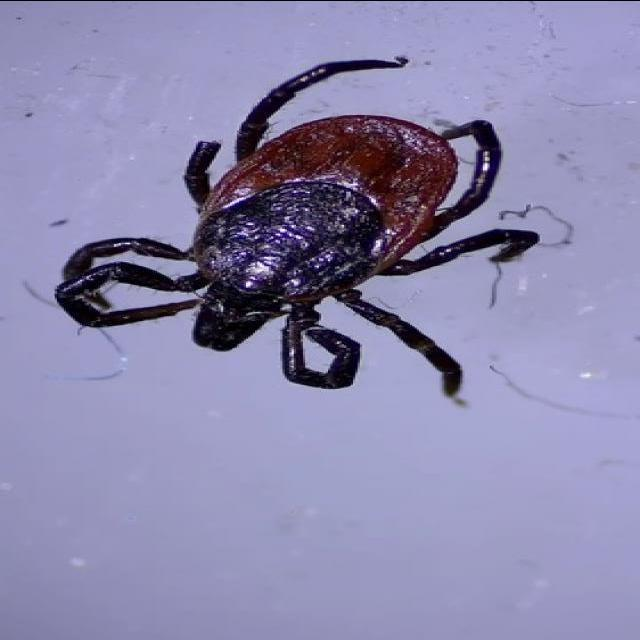Ixodes Ricinus-F: (55, 60, 540, 401)
